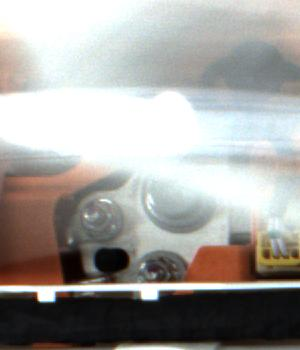screw_s: (83, 195, 127, 238), (139, 249, 183, 283)
